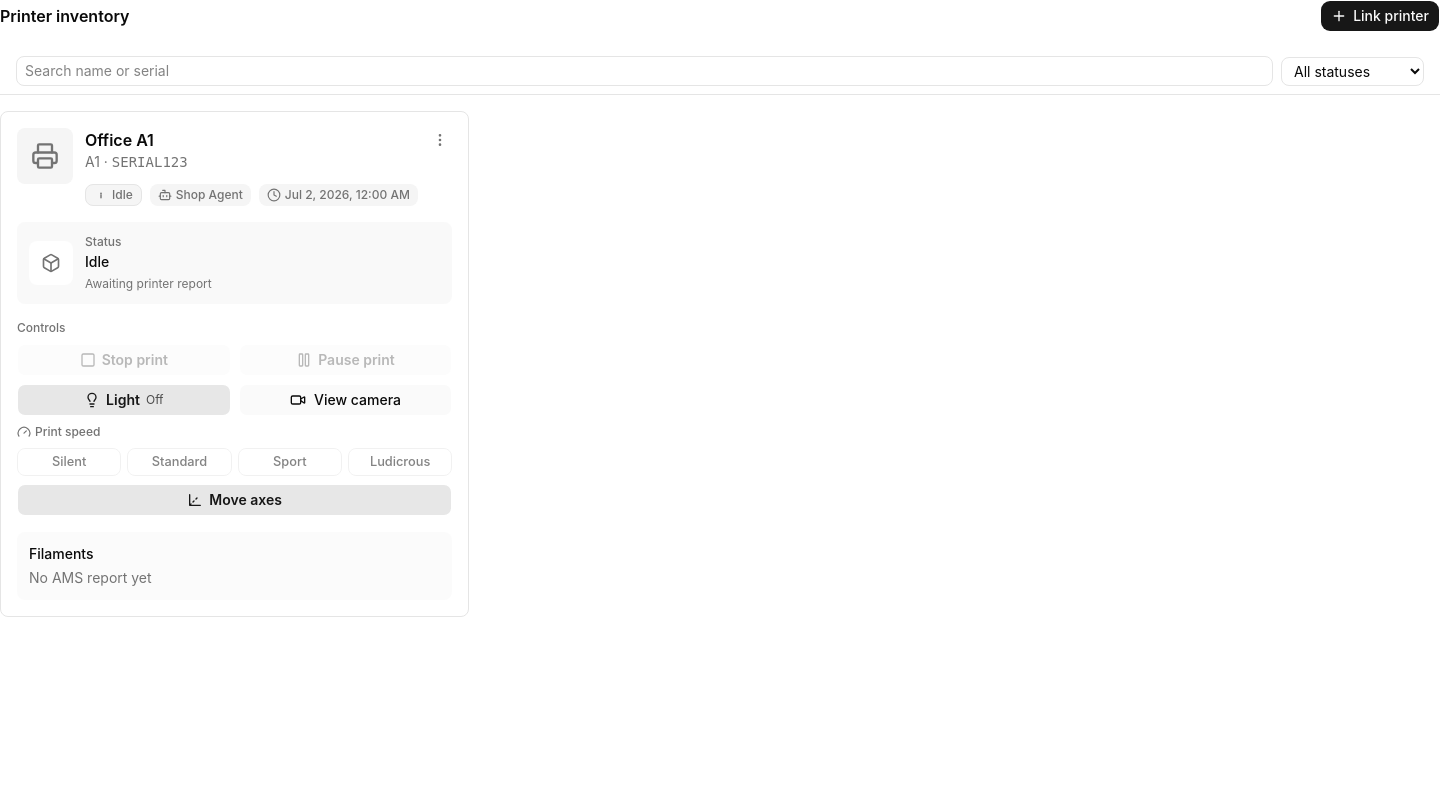
Test case: PrinterInventory › opens a printer actions popover with delete
The width and height of the screenshot is (1440, 810).
Click the button named "Actions for Office A1" at (440, 140), box [428,128,452,152]
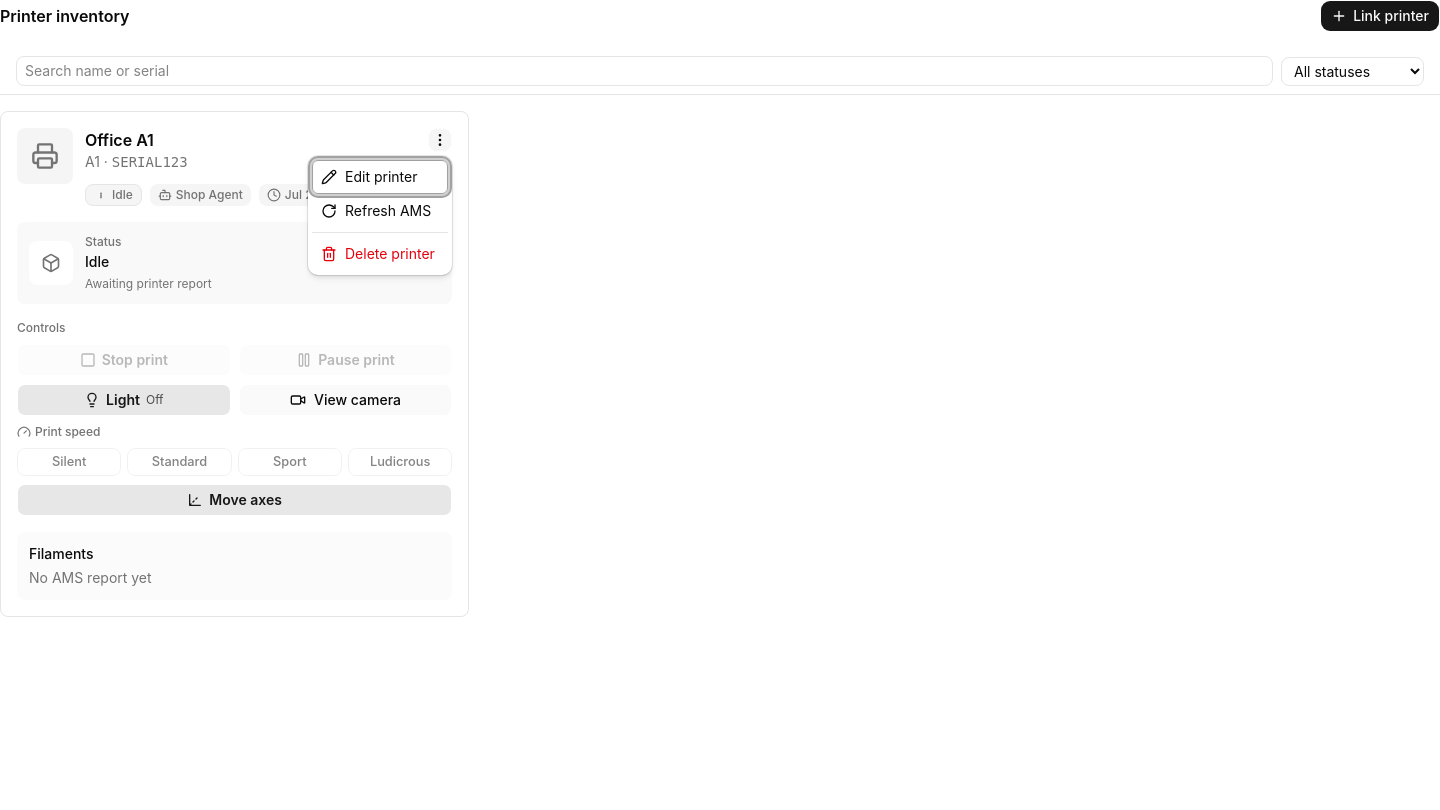
Now the button "Edit printer" is shown, box [312,160,448,194]
Now the button "Delete printer" is shown, box [312,237,448,271]
